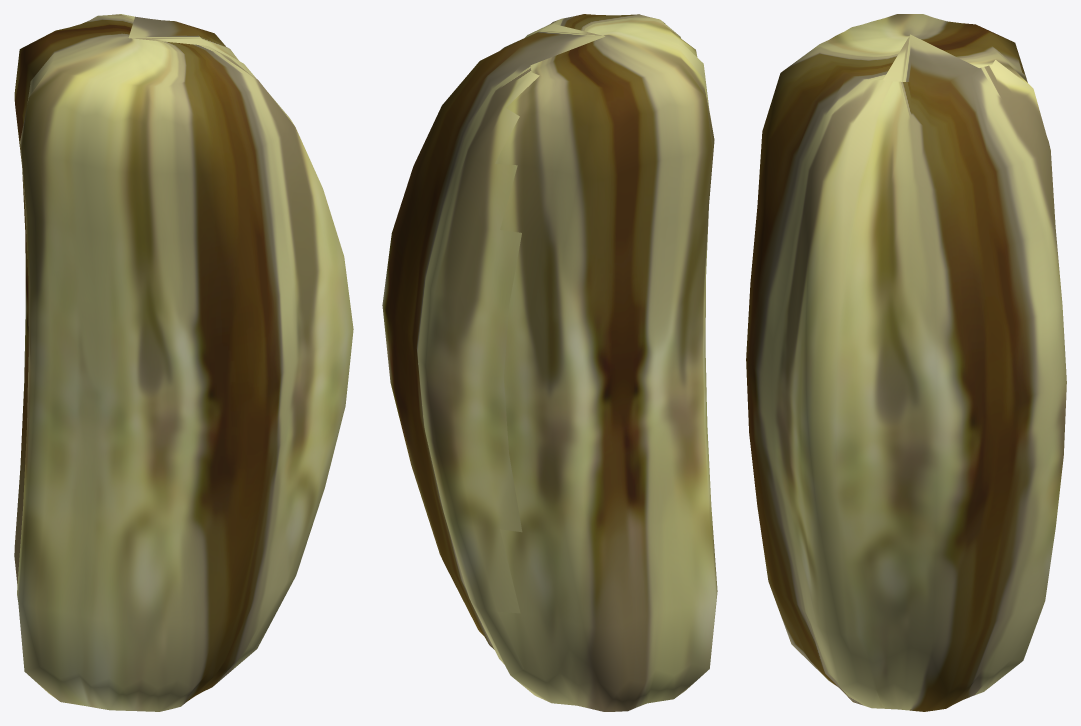
The model's file is Chamomile_seed.fbx.
3 views of the same model, side by side, from view 1: azimuth 30°, elevation 25°; view 2: azimuth 150°, elevation 25°; view 3: azimuth 270°, elevation 25° (orthographic).
Parts seen in each view (by area): view 1: pCylinder5; view 2: pCylinder5; view 3: pCylinder5.
Boxes of the visible parts, x1,y1,x2,y2 form: pCylinder5: (14, 14, 353, 711); pCylinder5: (382, 14, 717, 711); pCylinder5: (746, 14, 1066, 711).
Size of the model in its own units: 2.77 by 5.76 by 2.5.
